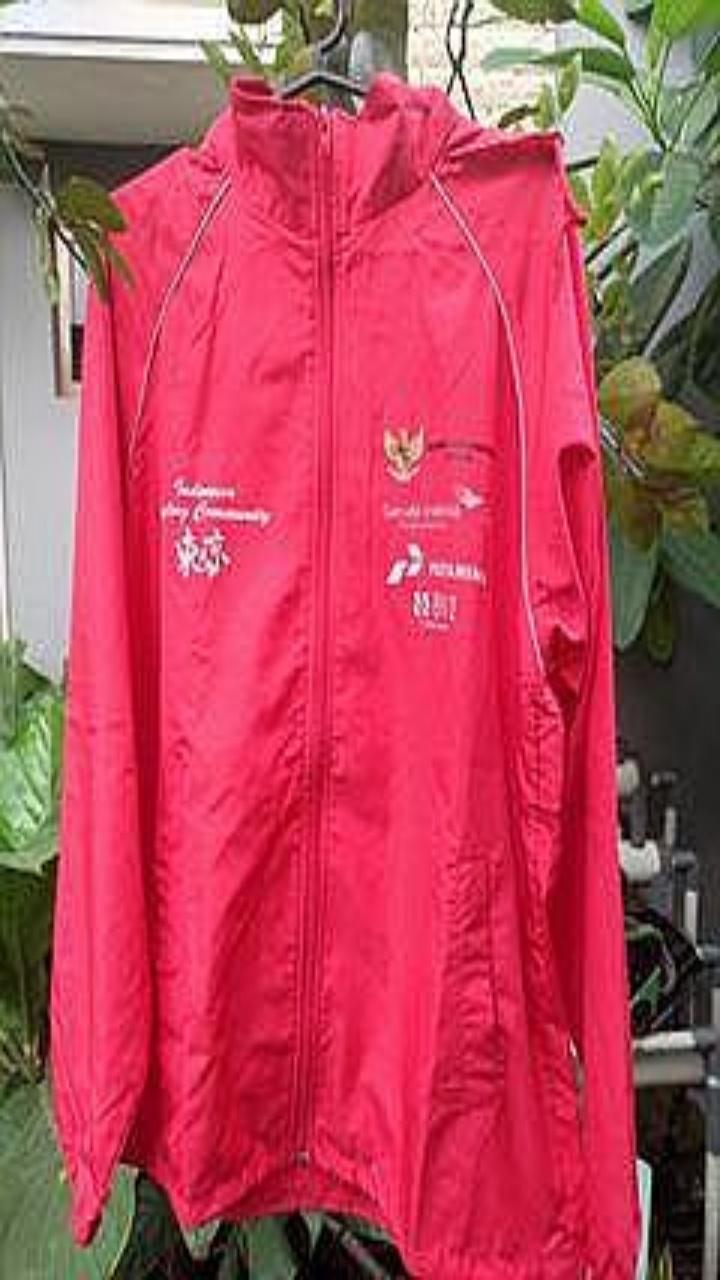Sports_Jacket: (51, 70, 639, 1279)
